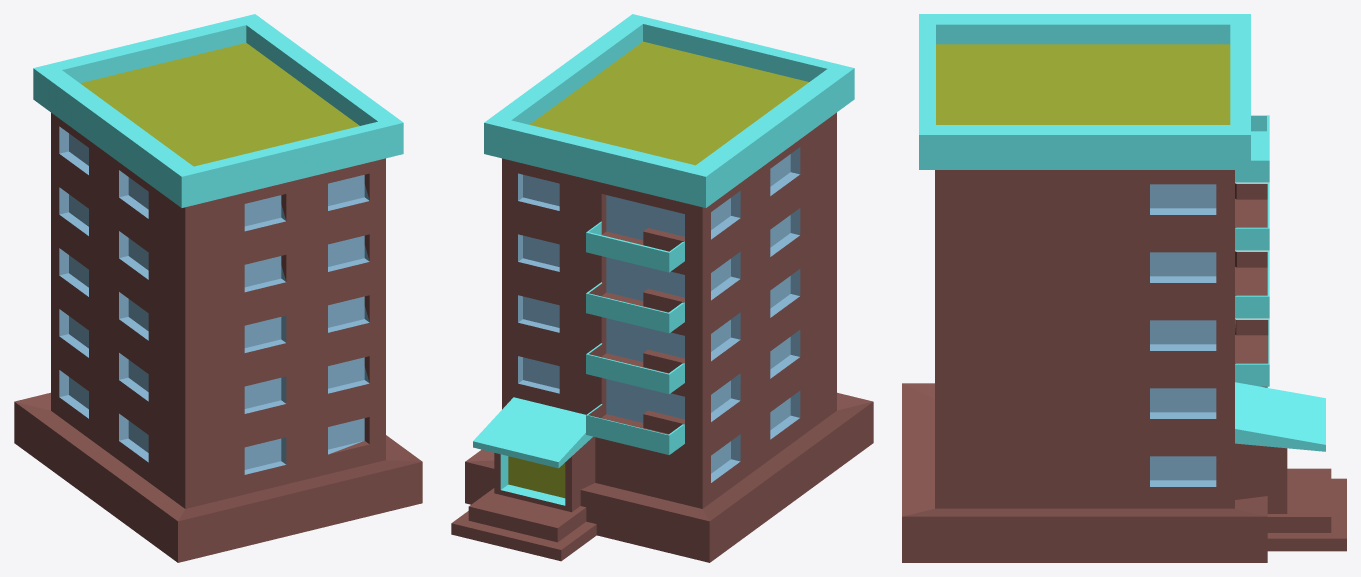
The model's file is house.glb.
3 views of the same model, side by side, from view 1: azimuth 30°, elevation 25°; view 2: azimuth 150°, elevation 25°; view 3: azimuth 270°, elevation 25° (orthographic). The views are drawn at different scales.
Visible parts, largest first — view 1: House; view 2: House; view 3: House.
Boxes of the visible parts, left/top/right/bottom form: House: left=14, top=14, right=422, bottom=562; House: left=451, top=14, right=873, bottom=562; House: left=902, top=14, right=1346, bottom=562.
Bounding box in the file's own units: 3.41 × 5.03 × 4.8.
